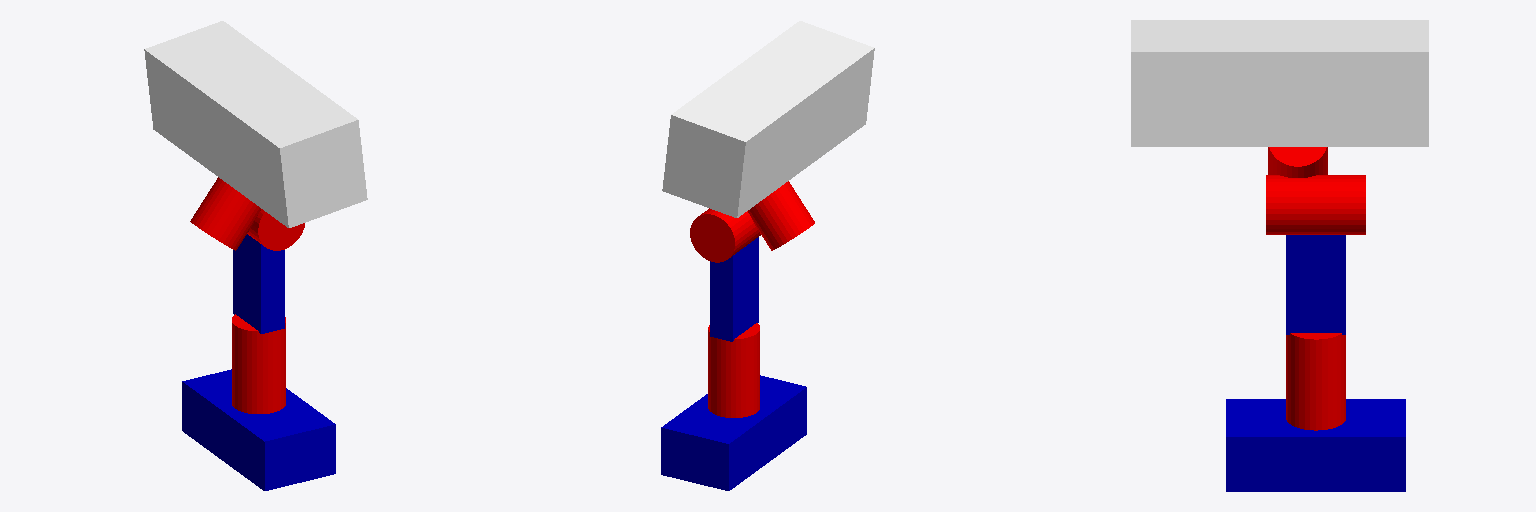
URDF robot description (realsense_bot):
<?xml version="1.0" encoding="utf-8"?>
<!-- =================================================================================== -->
<!-- |    This document was autogenerated by xacro from realsense_bot.urdf.xacro       | -->
<!-- |    EDITING THIS FILE BY HAND IS NOT RECOMMENDED                                 | -->
<!-- =================================================================================== -->
<robot name="realsense_bot">
  <material name="aluminum">
    <color rgba="0.5 0.5 0.5 1"/>
  </material>
  <material name="plastic">
    <color rgba="0.1 0.1 0.1 1"/>
  </material>
  <link name="base_link"/>
  <!-- camera body, with origin at bottom screw mount -->
  <joint name="camera_joint" type="fixed">
    <origin rpy="0 0 0" xyz="0 0 0"/>
    <parent link="base_link"/>
    <child link="camera_bottom_screw_frame"/>
  </joint>
  <link name="camera_bottom_screw_frame"/>
  <joint name="camera_link_joint" type="fixed">
    <origin rpy="0 0 0" xyz="0.0106 0.0175 0.0125"/>
    <parent link="camera_bottom_screw_frame"/>
    <child link="camera_link"/>
  </joint>
  <link name="camera_link">
    <visual>
      <!-- the mesh origin is at front plate in between the two infrared camera axes -->
      <origin rpy="1.57079632679 0 1.57079632679" xyz="0.0043 -0.0175 0"/>
      <geometry>
        <mesh filename="package://realsense2_description/meshes/d435.dae"/>
      </geometry>
    </visual>
    <collision>
      <origin rpy="0 0 0" xyz="0 -0.0175 0"/>
      <geometry>
        <box size="0.02505 0.09 0.025"/>
      </geometry>
    </collision>
    <inertial>
      <!-- The following are not reliable values, and should not be used for modeling -->
      <mass value="0.072"/>
      <origin xyz="0 0 0"/>
      <inertia ixx="0.003881243" ixy="0.0" ixz="0.0" iyy="0.000498940" iyz="0.0" izz="0.003879257"/>
    </inertial>
  </link>
  <!-- camera depth joints and links -->
  <joint name="camera_depth_joint" type="fixed">
    <origin rpy="0 0 0" xyz="0 0 0"/>
    <parent link="camera_link"/>
    <child link="camera_depth_frame"/>
  </joint>
  <link name="camera_depth_frame"/>
  <joint name="camera_depth_optical_joint" type="fixed">
    <origin rpy="-1.57079632679 0 -1.57079632679" xyz="0 0 0"/>
    <parent link="camera_depth_frame"/>
    <child link="camera_depth_optical_frame"/>
  </joint>
  <link name="camera_depth_optical_frame"/>
  <!-- camera left IR joints and links -->
  <joint name="camera_infra1_joint" type="fixed">
    <origin rpy="0 0 0" xyz="0 0.0 0"/>
    <parent link="camera_link"/>
    <child link="camera_infra1_frame"/>
  </joint>
  <link name="camera_infra1_frame"/>
  <joint name="camera_infra1_optical_joint" type="fixed">
    <origin rpy="-1.57079632679 0 -1.57079632679" xyz="0 0 0"/>
    <parent link="camera_infra1_frame"/>
    <child link="camera_infra1_optical_frame"/>
  </joint>
  <link name="camera_infra1_optical_frame"/>
  <!-- camera right IR joints and links -->
  <joint name="camera_infra2_joint" type="fixed">
    <origin rpy="0 0 0" xyz="0 -0.05 0"/>
    <parent link="camera_link"/>
    <child link="camera_infra2_frame"/>
  </joint>
  <link name="camera_infra2_frame"/>
  <joint name="camera_infra2_optical_joint" type="fixed">
    <origin rpy="-1.57079632679 0 -1.57079632679" xyz="0 0 0"/>
    <parent link="camera_infra2_frame"/>
    <child link="camera_infra2_optical_frame"/>
  </joint>
  <link name="camera_infra2_optical_frame"/>
  <!-- camera color joints and links -->
  <joint name="camera_color_joint" type="fixed">
    <origin rpy="0 0 0" xyz="0 0.015 0"/>
    <parent link="camera_link"/>
    <child link="camera_color_frame"/>
  </joint>
  <link name="camera_color_frame"/>
  <joint name="camera_color_optical_joint" type="fixed">
    <origin rpy="-1.57079632679 0 -1.57079632679" xyz="0 0 0"/>
    <parent link="camera_color_frame"/>
    <child link="camera_color_optical_frame"/>
  </joint>
  <link name="camera_color_optical_frame"/>
  <material name="blue">
    <color rgba="0 0 0.8 1"/>
  </material>
  <material name="red">
    <color rgba="1 0 0 1"/>
  </material>
  <material name="white">
    <color rgba="1 1 1 1"/>
  </material>
  <link name="rbot_base">
    <visual>
      <geometry>
        <box size="0.045 0.09 0.03"/>
      </geometry>
      <origin rpy="0 0 0" xyz="0 0 0"/>
      <material name="blue"/>
    </visual>
  </link>
  <link name="servo_bottom">
    <visual>
      <geometry>
        <cylinder length="0.05" radius="0.015"/>
      </geometry>
      <origin rpy="0 0 0" xyz="0 0 0"/>
      <material name="red"/>
    </visual>
  </link>
  <link name="U_Link">
    <visual>
      <geometry>
        <box size="0.015 0.03 0.064"/>
      </geometry>
      <origin rpy="0 0 0" xyz="0 0 0"/>
      <material name="blue"/>
    </visual>
  </link>
  <link name="servo_mid">
    <visual>
      <geometry>
        <cylinder length="0.05" radius="0.015"/>
      </geometry>
      <origin rpy="1.57 0 0" xyz="0 0 0"/>
      <material name="red"/>
    </visual>
  </link>
  <link name="servo_up">
    <visual>
      <geometry>
        <cylinder length="0.05" radius="0.015"/>
      </geometry>
      <origin rpy="0 0 0" xyz="0 0 0"/>
      <material name="red"/>
    </visual>
  </link>
  <link name="up_mount">
    <visual>
      <geometry>
        <box size="0.05 0.148 0.05"/>
      </geometry>
      <origin rpy="0 0.785 0" xyz="0 0 0"/>
      <material name="white"/>
    </visual>
  </link>
  <joint name="base_to_Servo_B" type="fixed">
    <parent link="rbot_base"/>
    <child link="servo_bottom"/>
    <origin xyz="0 0 0.04"/>
  </joint>
  <joint name="Joint_1" type="revolute">
    <parent link="servo_bottom"/>
    <child link="U_Link"/>
    <axis xyz="0 0 1"/>
    <limit effort="1000.0" lower="-1.57" upper="1.57" velocity="0.5"/>
    <origin xyz="0 0 0.056"/>
  </joint>
  <joint name="Joint_2" type="revolute">
    <parent link="U_Link"/>
    <child link="servo_mid"/>
    <axis xyz="0 1 0"/>
    <limit effort="1000.0" lower="-1.57" upper="1.57" velocity="0.5"/>
    <origin rpy="0 0.67 0" xyz="0 0 0.036"/>
  </joint>
  <joint name="servo_mid_to_servo_up" type="fixed">
    <parent link="servo_mid"/>
    <child link="servo_up"/>
    <origin xyz="-0.0237 -0.009 0"/>
  </joint>
  <joint name="Joint_3" type="revolute">
    <parent link="servo_up"/>
    <child link="up_mount"/>
    <axis xyz="0 0 1"/>
    <limit effort="1000.0" lower="-1.57" upper="1.57" velocity="0.5"/>
    <origin xyz="-0.0237 -0.009 0.04"/>
  </joint>
  <joint name="mount_to_camera" type="fixed">
    <parent link="up_mount"/>
    <child link="base_link"/>
    <origin rpy="0 -0.785 0" xyz="0.03 0 0.02"/>
  </joint>
</robot>

--- What the picture shows (computed from the rendered views, not written in the file) ---
The picture shows the robot from 3 angles, left to right: view 1: azimuth 30°, elevation 25°; view 2: azimuth 150°, elevation 25°; view 3: azimuth 270°, elevation 25°; orthographic projection.
Model realsense_bot with 17 links and 16 joints (3 revolute, 13 fixed), rooted at rbot_base, posed every joint at zero.
Visible links, largest first — view 1: up_mount, rbot_base, servo_bottom, U_Link, servo_up, servo_mid; view 2: up_mount, rbot_base, servo_bottom, U_Link, servo_mid, servo_up; view 3: up_mount, rbot_base, servo_mid, U_Link, servo_bottom, servo_up.
Link boxes in pixels (box(x1,y1,x2,y2)): up_mount: box(144, 21, 367, 227); rbot_base: box(182, 369, 335, 490); servo_bottom: box(232, 314, 285, 413); U_Link: box(233, 234, 284, 333); servo_up: box(190, 177, 260, 250); servo_mid: box(247, 209, 304, 250); up_mount: box(662, 21, 874, 217); rbot_base: box(661, 375, 806, 490); servo_bottom: box(708, 323, 759, 417); U_Link: box(710, 237, 758, 341); servo_mid: box(690, 208, 760, 262); servo_up: box(748, 181, 814, 250); up_mount: box(1131, 20, 1428, 146); rbot_base: box(1226, 399, 1405, 491); servo_mid: box(1266, 175, 1365, 234); U_Link: box(1286, 235, 1345, 334); servo_bottom: box(1286, 333, 1345, 430); servo_up: box(1268, 147, 1327, 177).
Bounding box of the posed robot: 0.0684 × 0.148 × 0.2355 m (x, y, z).
Meshes: 1 distinct files referenced, 0 mesh visuals loaded (none loaded); not drawn: 1 (reference not matched to a file when rendering).